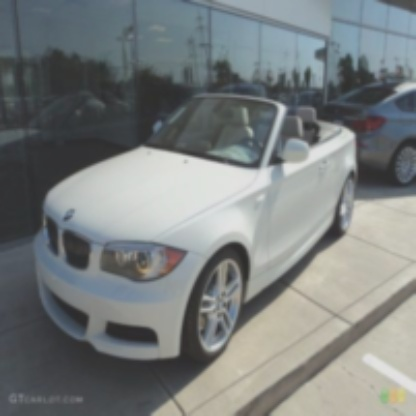Vehicle: (31, 92, 359, 369)
